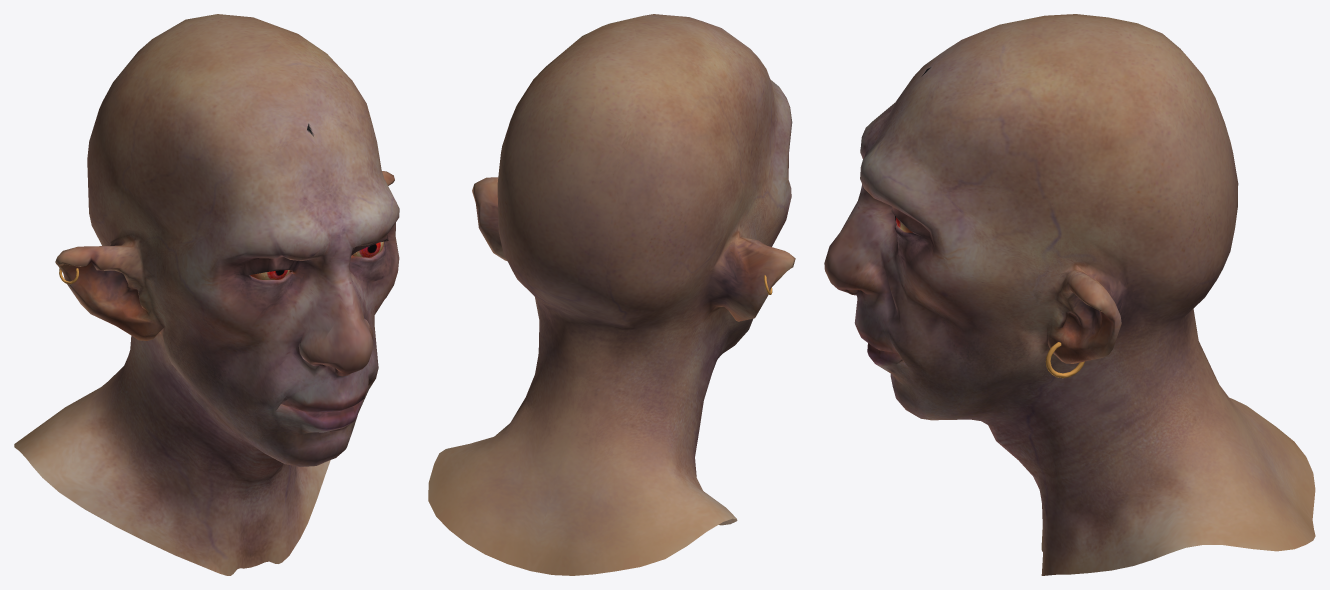
Rendered from GoblinX.obj.
3 views of the same model, side by side, from view 1: azimuth 30°, elevation 25°; view 2: azimuth 150°, elevation 25°; view 3: azimuth 270°, elevation 25° (orthographic). The views are drawn at different scales.
Parts seen in each view (by area): view 1: Goblin, GoblinEyes; view 2: Goblin; view 3: Goblin.
Part boxes in pixels (x1,y1,x2,y2): Goblin: (14, 14, 399, 575); GoblinEyes: (250, 241, 383, 279); Goblin: (428, 14, 795, 575); Goblin: (824, 14, 1315, 575).
Bounding box in the file's own units: 2.07 × 3.08 × 2.56.
